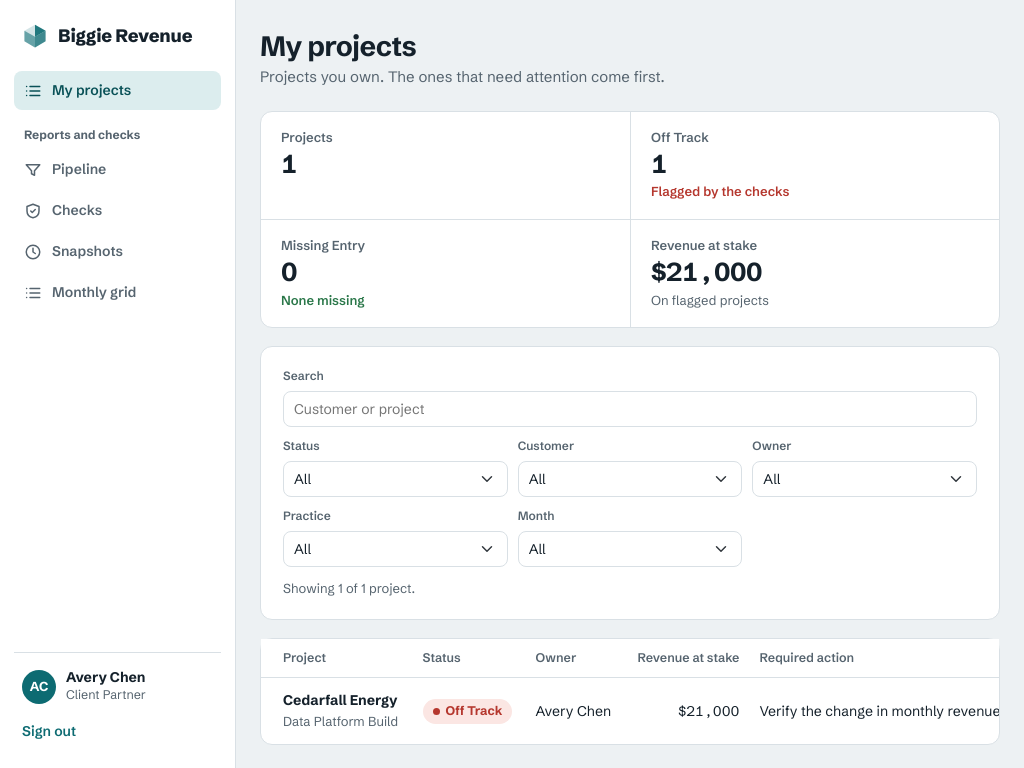
Test: Snapshots › shows a failed scheduled job so it cannot go unnoticed
The width and height of the screenshot is (1024, 768).
Click the button "Snapshots". click: (118, 252)
box: [14,232,221,271]
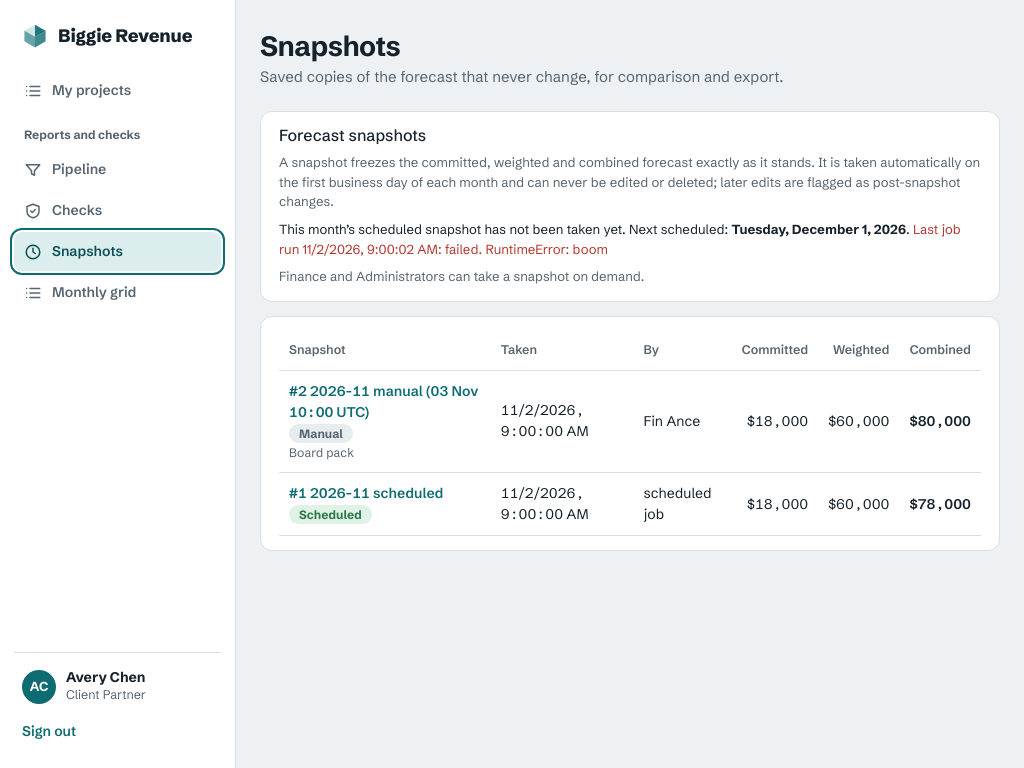
Now the text "has not been taken yet" is shown, box [279,221,629,237]
